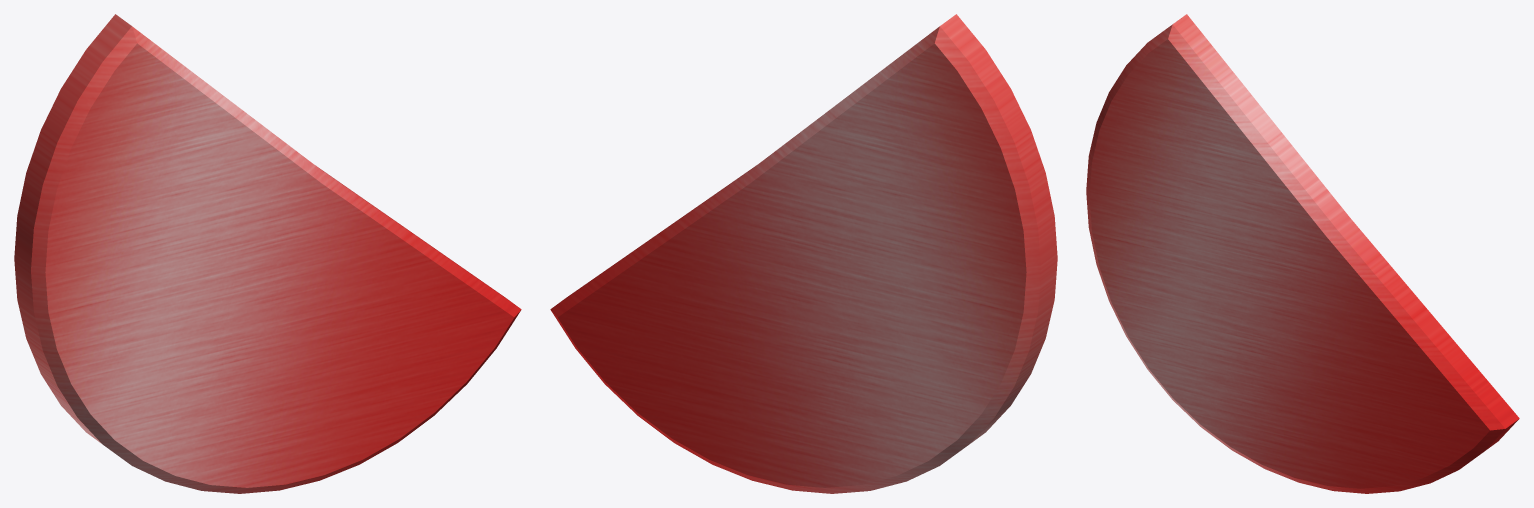
File: Bar_Pumpkins_part_02.fbx
3 renders of one model, left to right at view 1: azimuth 30°, elevation 25°; view 2: azimuth 150°, elevation 25°; view 3: azimuth 330°, elevation 25°, orthographic. The views are drawn at different scales.
Parts seen in each view (by area): view 1: Bar_Pumpkins_part_02; view 2: Bar_Pumpkins_part_02; view 3: Bar_Pumpkins_part_02.
Boxes of the visible parts, box(x1,y1,x2,y2) form: Bar_Pumpkins_part_02: box(14, 14, 521, 493); Bar_Pumpkins_part_02: box(550, 14, 1057, 493); Bar_Pumpkins_part_02: box(1086, 14, 1519, 493).
Size of the model in its own units: 18.76 by 18.27 by 1.8.
